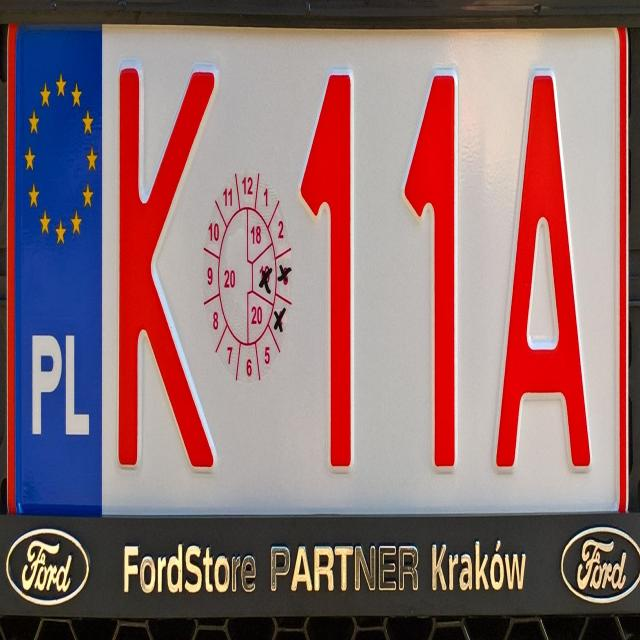pl_license_plate: (7, 24, 626, 508)
